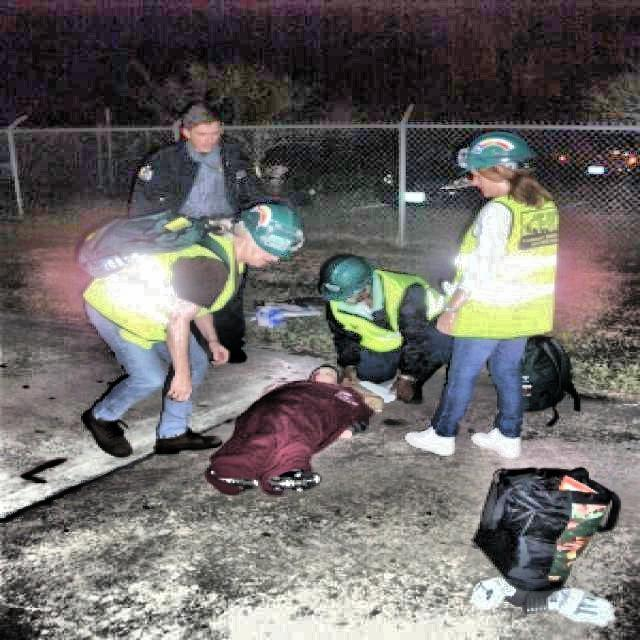safety_helmet: (233, 200, 314, 266), (448, 130, 546, 179), (316, 252, 378, 306)
safety_jacket: (92, 224, 228, 342), (448, 195, 561, 336), (334, 272, 436, 360)
